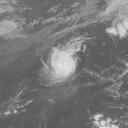cyclone: (48, 46, 80, 82)
